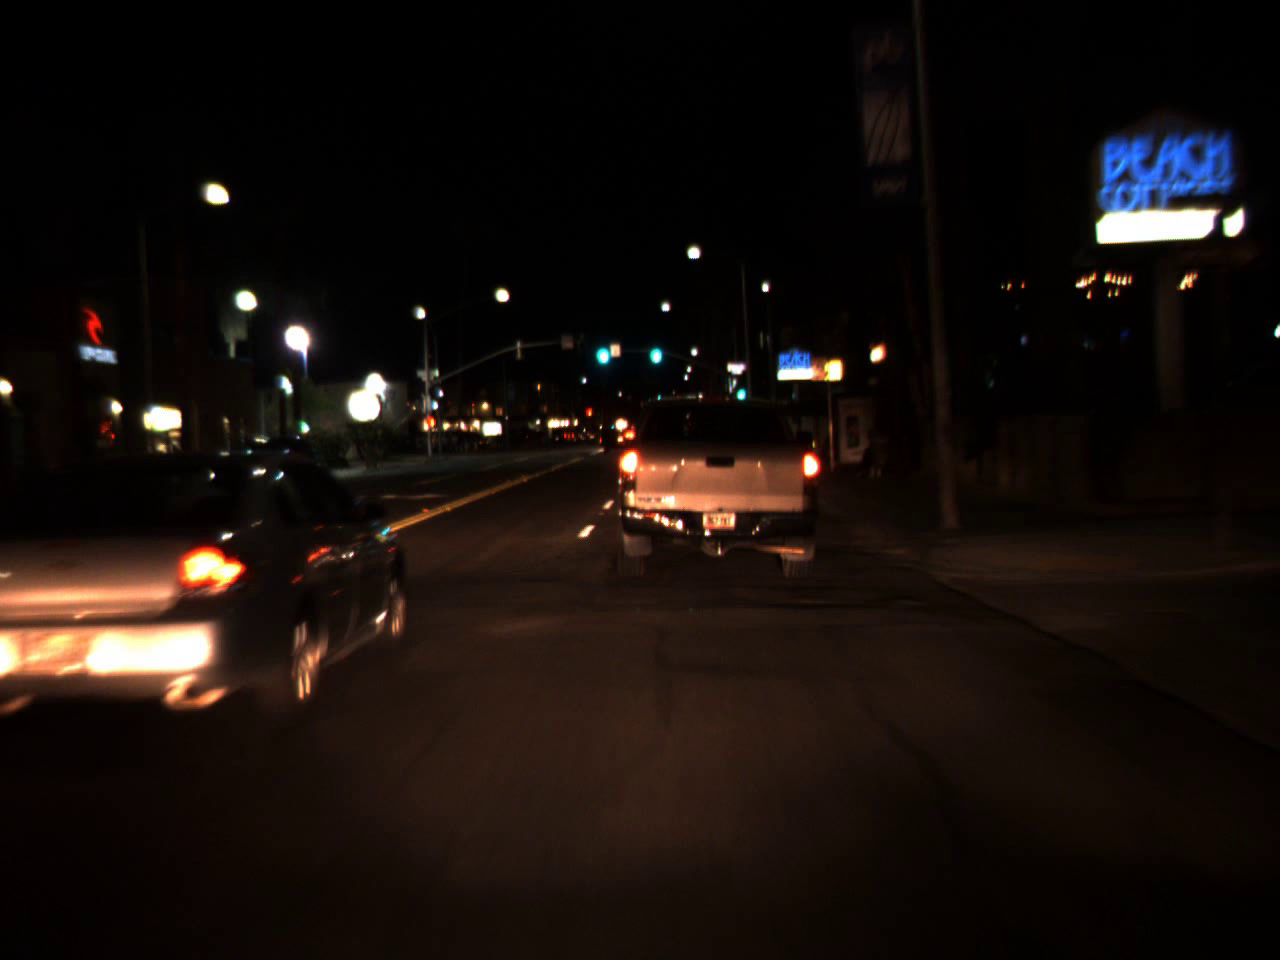go: (591, 328, 612, 370), (646, 329, 664, 368), (734, 381, 746, 399)
